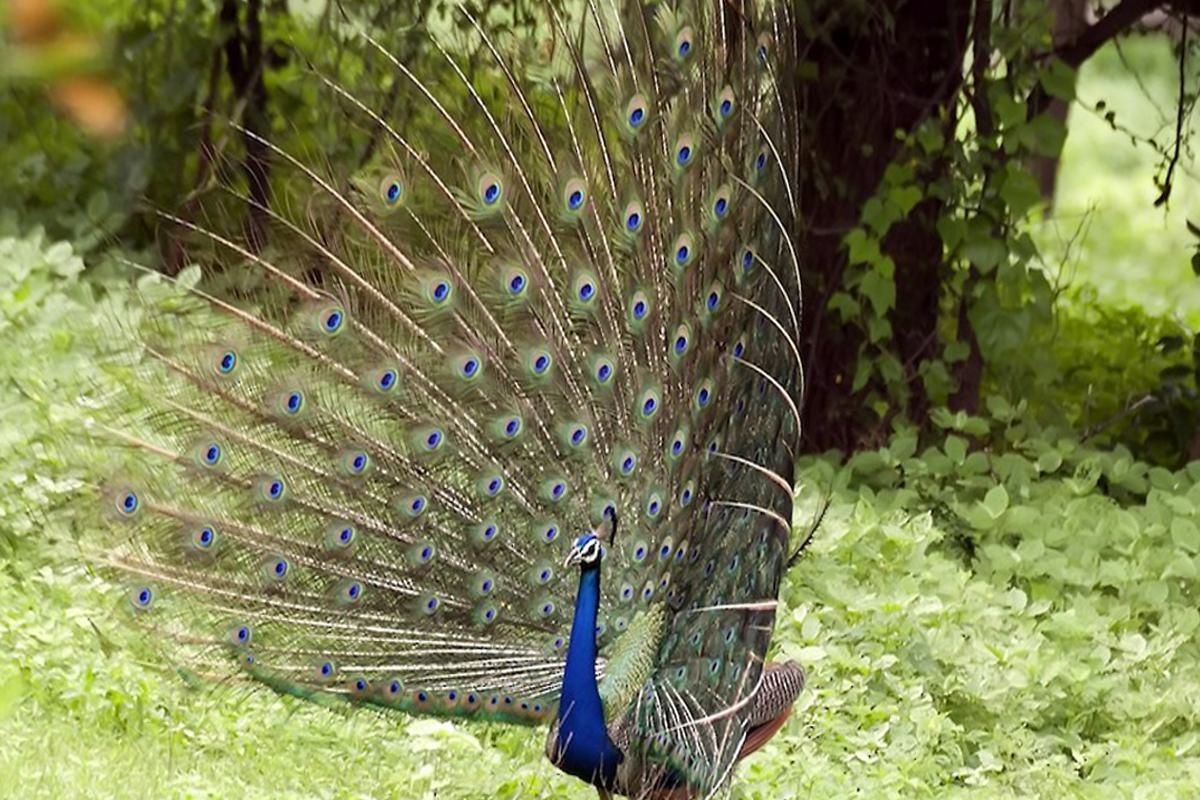peacock: (193, 65, 833, 800)
